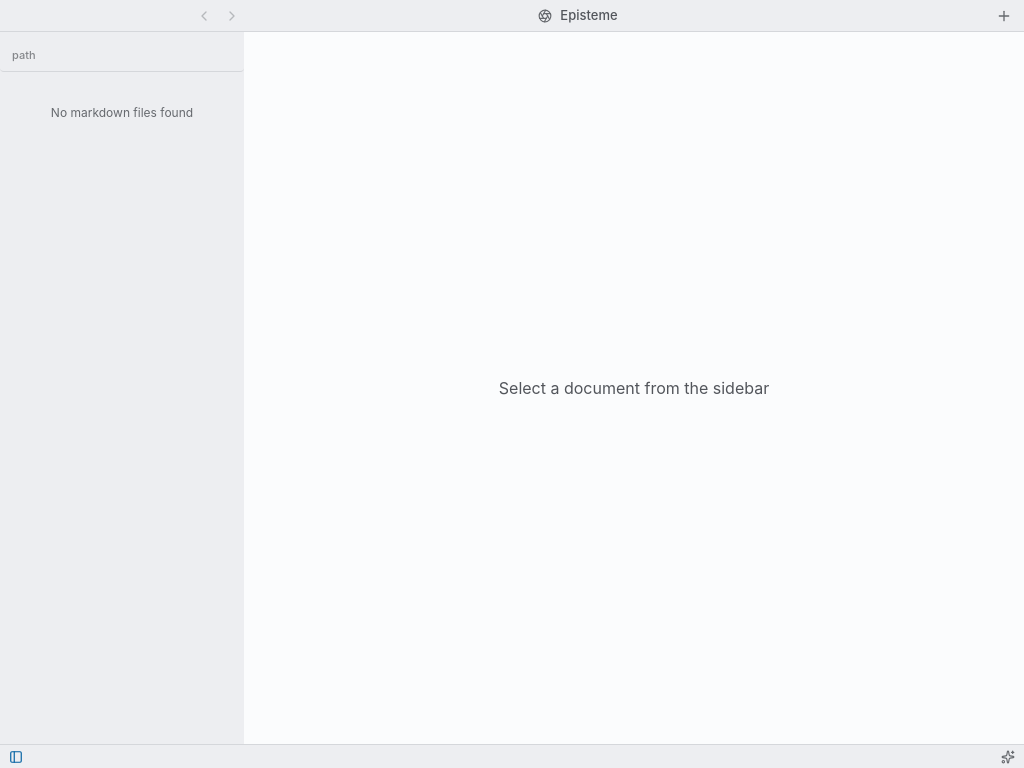
Scenario: FooterBar in App › shows sidebar again when toggle is clicked a second time
The image size is (1024, 768).
Click the button named "hide sidebar" at (16,756), box [4,744,28,767]
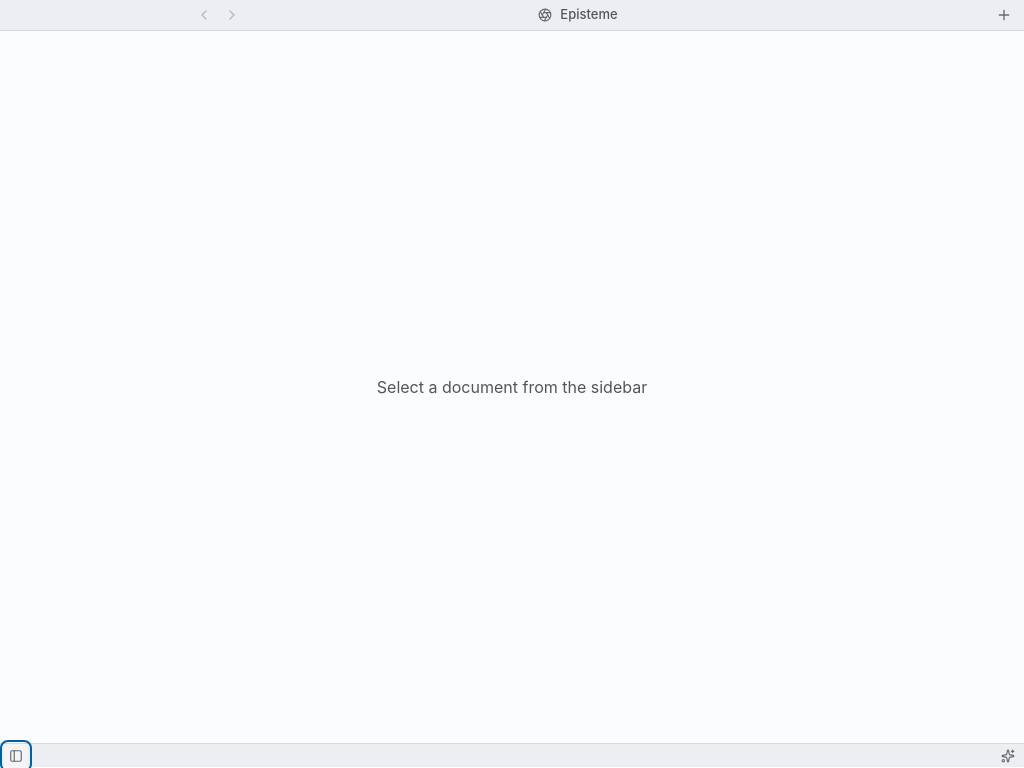
Click the button named "show sidebar" at (16,756), box [4,744,28,767]
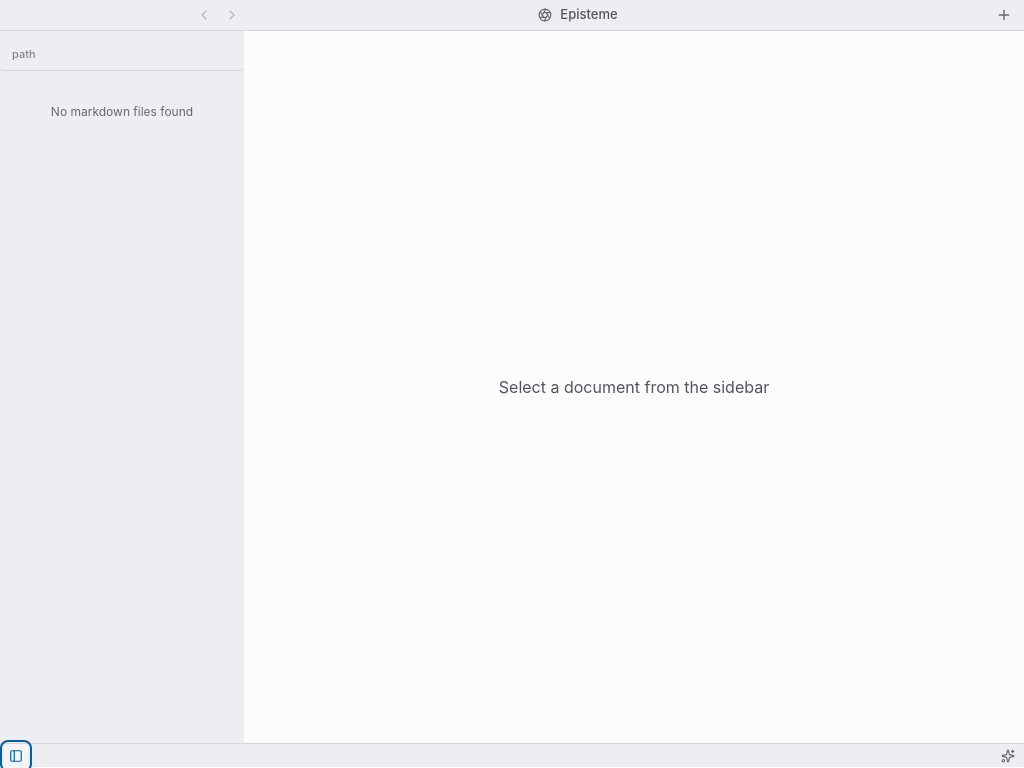
Result: the element showing "path No markdown files found" is shown at [0,31,244,743]
